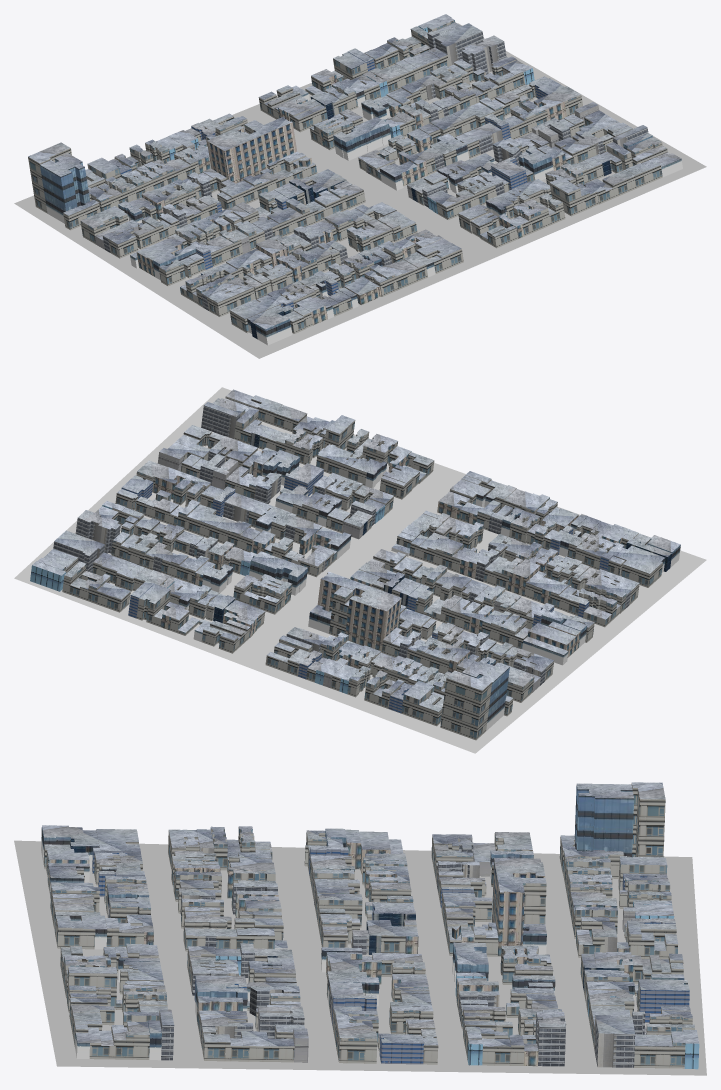
Rendered from actual_small_manhattan.fbx.
3 renders of one model, top to bottom at view 1: azimuth 30°, elevation 25°; view 2: azimuth 150°, elevation 25°; view 3: azimuth 270°, elevation 25°, orthographic. The views are drawn at different scales.
Parts seen in each view (by area): view 1: Areas:building, EXPORT_GOOGLE_SAT_WM; view 2: Areas:building, EXPORT_GOOGLE_SAT_WM; view 3: Areas:building, EXPORT_GOOGLE_SAT_WM.
Boxes of the visible parts, bbox=[...] form: Areas:building: bbox=[28, 14, 682, 345]; EXPORT_GOOGLE_SAT_WM: bbox=[14, 23, 706, 358]; Areas:building: bbox=[30, 389, 680, 740]; EXPORT_GOOGLE_SAT_WM: bbox=[14, 387, 706, 753]; Areas:building: bbox=[41, 782, 699, 1069]; EXPORT_GOOGLE_SAT_WM: bbox=[14, 840, 706, 1075].
Bounding box in the file's own units: 59677 × 12333 × 53034.
